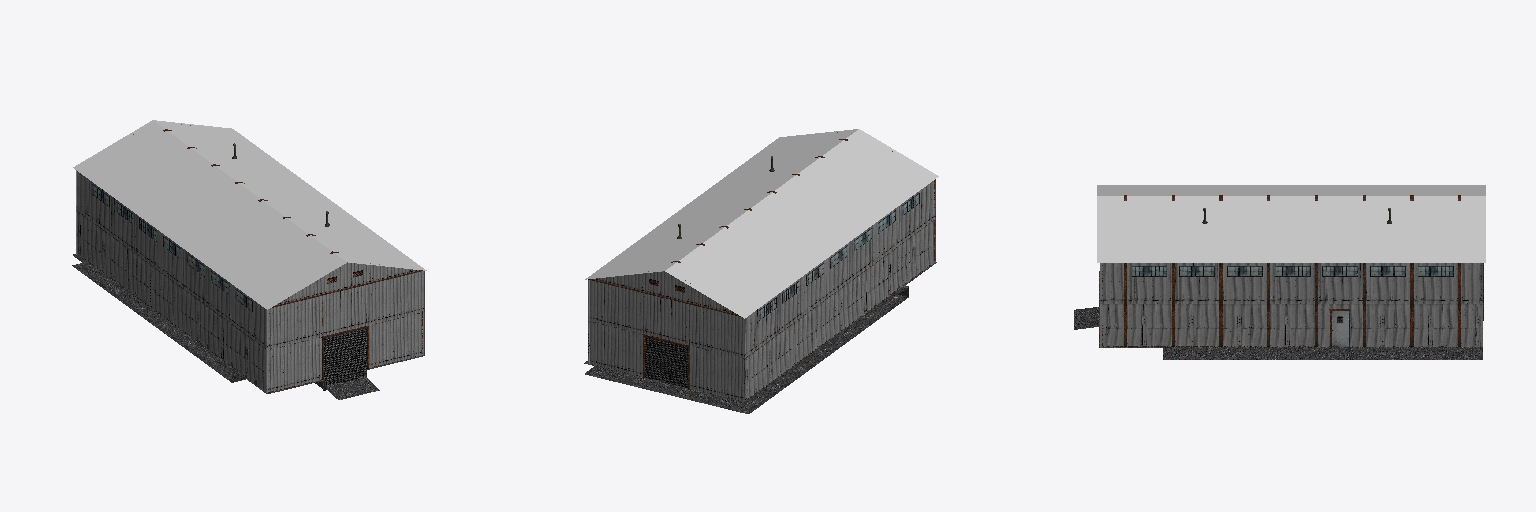
3 renders of one model, left to right at view 1: azimuth 30°, elevation 25°; view 2: azimuth 150°, elevation 25°; view 3: azimuth 270°, elevation 25°, orthographic.
Parts seen in each view (by area): view 1: Warehouse; view 2: Warehouse; view 3: Warehouse.
Part boxes in pixels (x1,y1,x2,y2): Warehouse: (72,120,426,399); Warehouse: (584,129,938,413); Warehouse: (1074,185,1485,359).
Size of the model in its own units: 1024 by 757 by 2216.
19 materials, 18 textured.